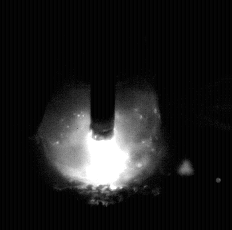arame: (91, 0, 116, 141)
poca: (37, 0, 161, 230)
